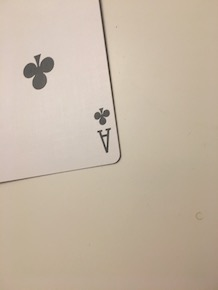AceOfClubs: (1, 1, 126, 186)
